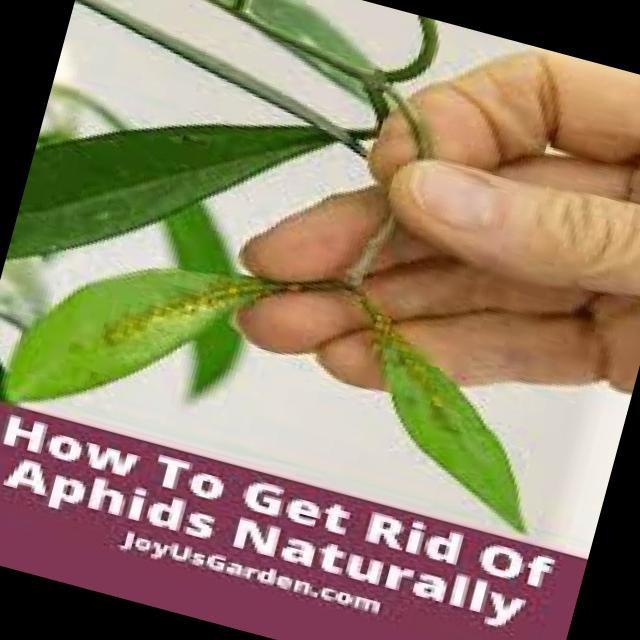aphid: (421, 391, 443, 414), (186, 286, 210, 305), (366, 306, 386, 324), (394, 349, 414, 365), (366, 316, 384, 332), (146, 300, 160, 314), (183, 300, 196, 314), (225, 280, 238, 294)
